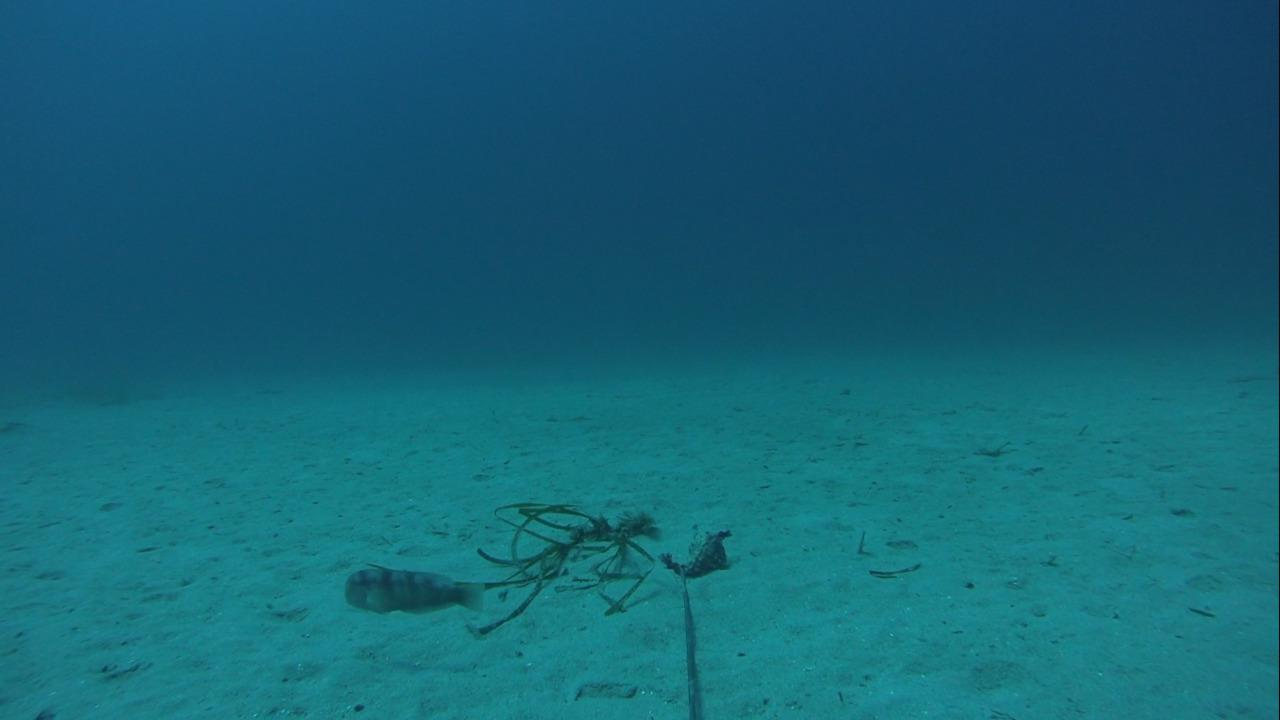raor: (337, 560, 489, 620)
